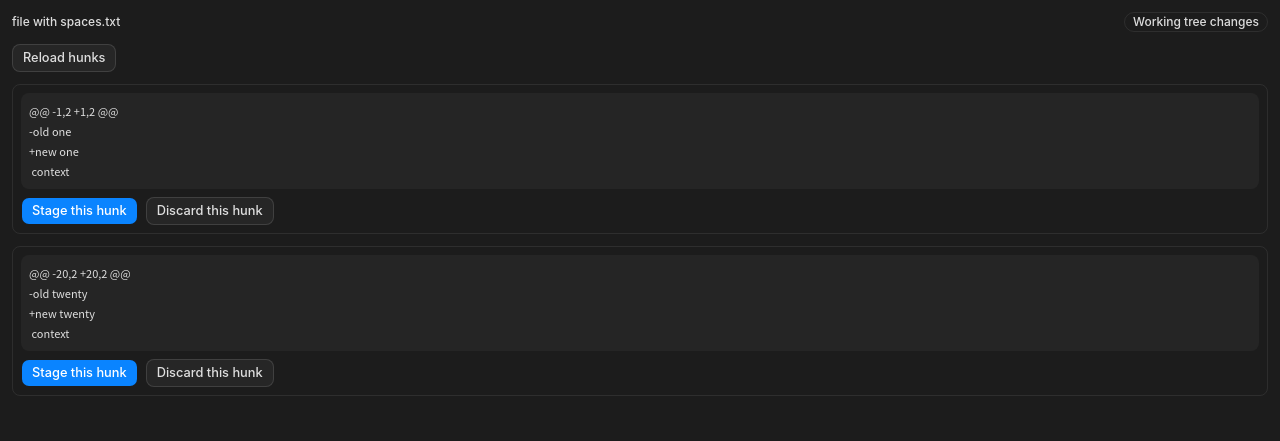
Test: individual changes hunks › submits only observed identifiers for the chosen stage hunk, never patch bytes
The image size is (1280, 441).
Click the button "Stage this hunk" below "-old twenty +new twenty context" at (79, 373), box [21,359,138,387]
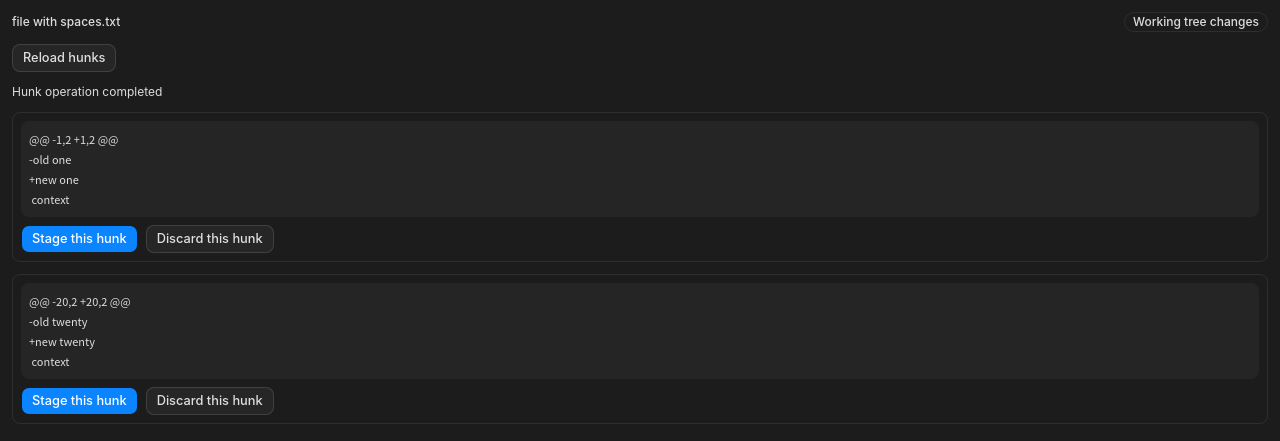
Check: the text "Hunk operation completed" is shown, box [12,84,162,99]
